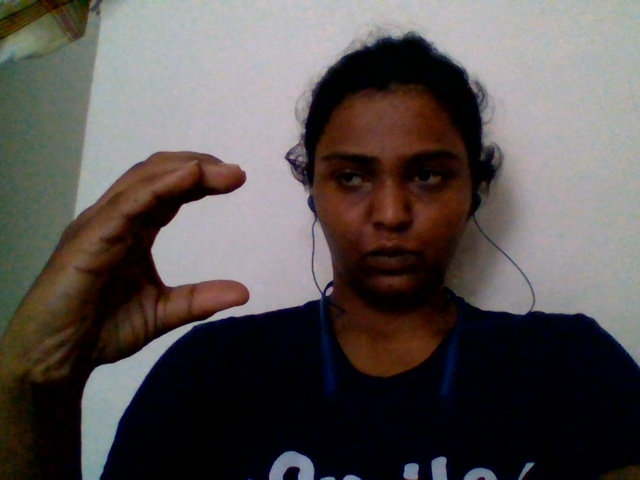No: (20, 129, 267, 388)
